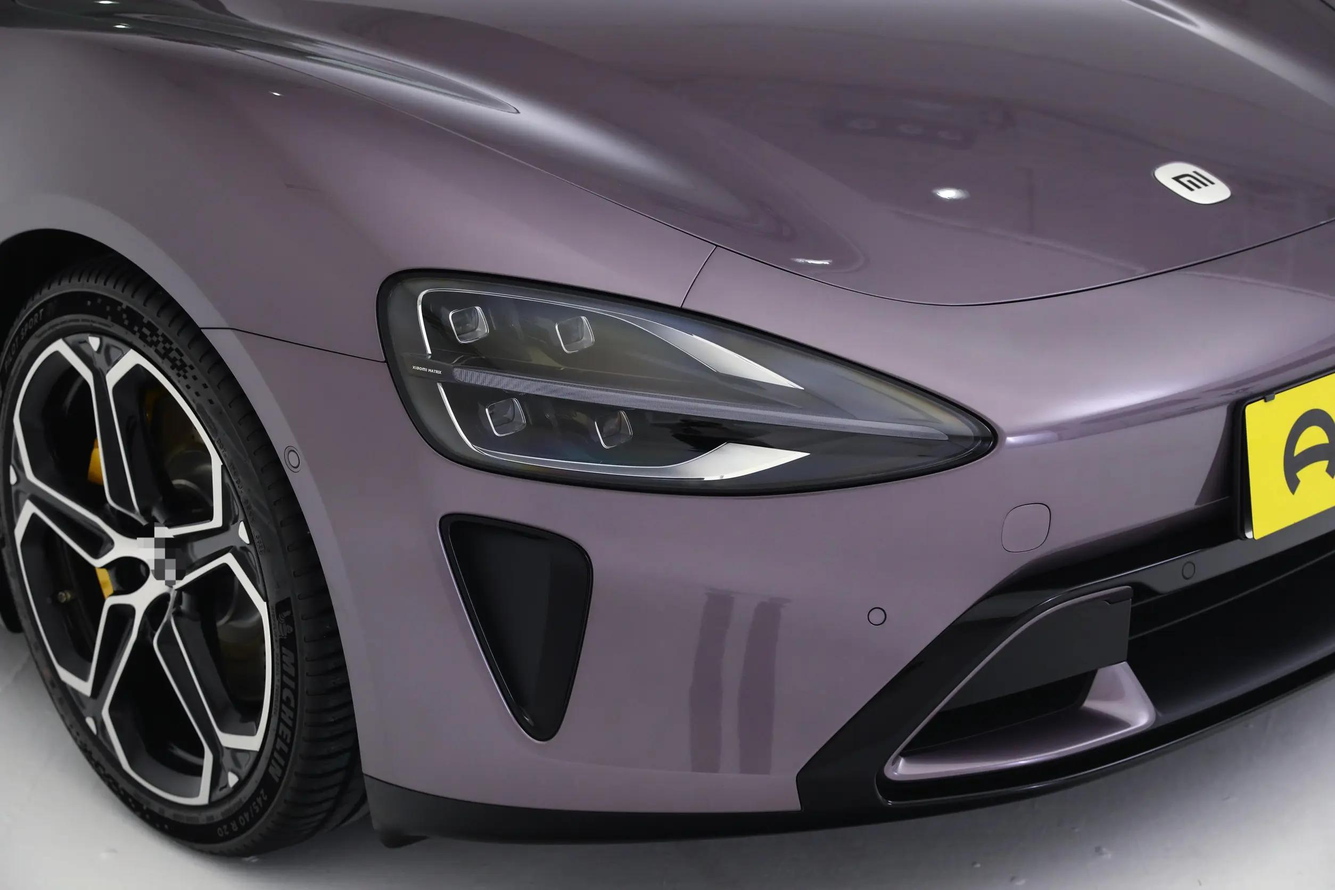XIAOMI: (1153, 162, 1232, 204)
